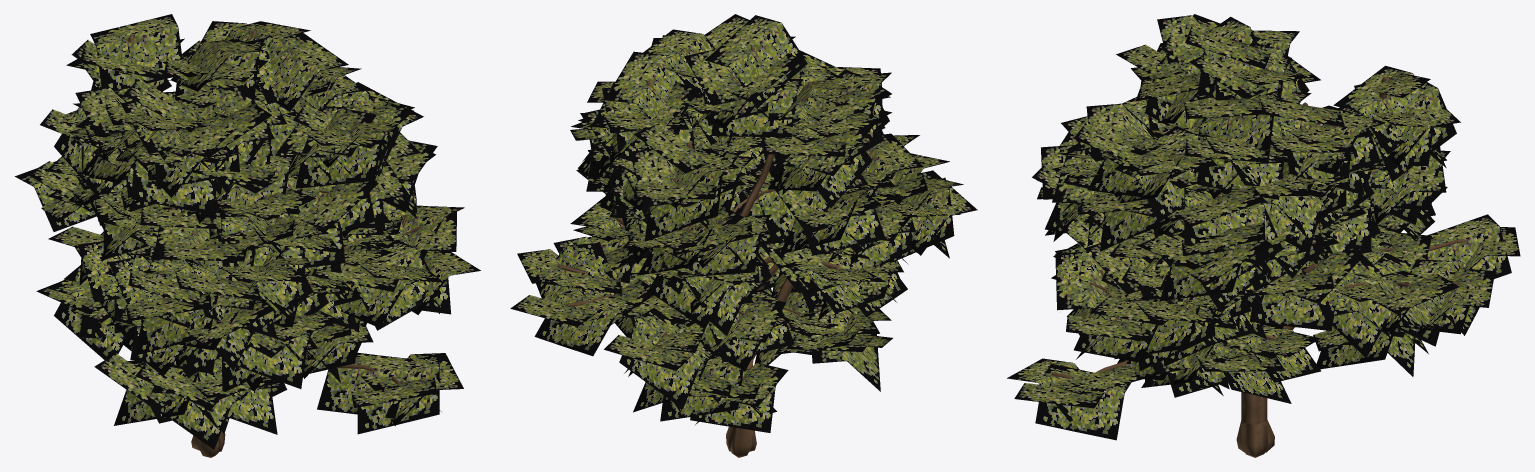
File: parampara-tree-5.glb
The picture shows the model from 3 angles, left to right: view 1: azimuth 30°, elevation 25°; view 2: azimuth 150°, elevation 25°; view 3: azimuth 270°, elevation 25°; orthographic projection. The views are drawn at different scales.
Visible parts, largest first — view 1: tree; view 2: tree; view 3: tree.
Boxes of the visible parts, <box> form: tree: <box>14,14,480,457</box>; tree: <box>510,14,977,457</box>; tree: <box>1007,14,1520,457</box>.
Size of the model in its own units: 12.65 by 14.07 by 15.48.
Materials: 1 (1 with a texture image).
